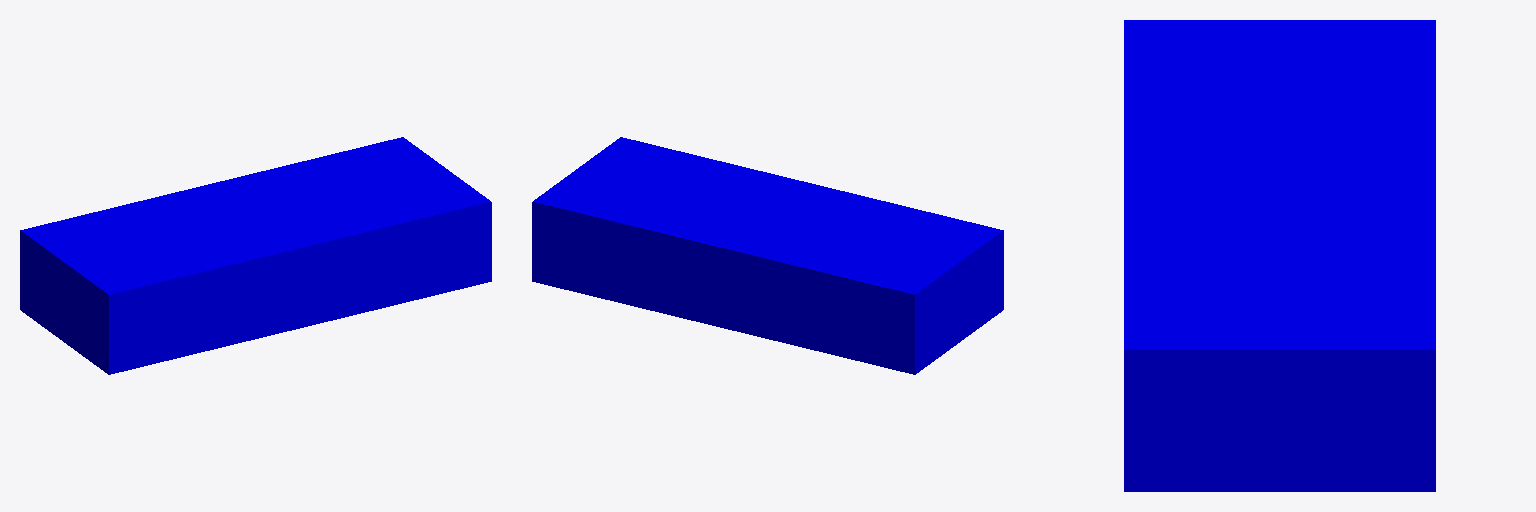
robot.urdf — mycar:
<!-- 
    需求: 长方体

 -->
<robot name="mycar">
    <!-- 底盘 -->
    <link name="base_link">
        <visual>
            <geometry>
                <box size="0.5 0.2 0.1" />
            </geometry>
            <origin xyz="0 0 0" rpy="0 0 0" />
            <material name="blue">
                <color rgba="0 0 1.0 0.5" />
            </material>
        </visual>
    </link>

</robot>

--- Facts derived from the render (not from the file) ---
Views: 3 orthographic renders of the robot side by side, from view 1: azimuth 30°, elevation 25°; view 2: azimuth 150°, elevation 25°; view 3: azimuth 270°, elevation 25°.
Model mycar with 1 links and 0 joints (none), rooted at base_link, posed every joint at zero.
Visible links, largest first — view 1: base_link; view 2: base_link; view 3: base_link.
Link boxes in pixels (left/top/right/bottom): base_link: left=20, top=137, right=491, bottom=374; base_link: left=532, top=137, right=1003, bottom=374; base_link: left=1124, top=20, right=1435, bottom=491.
Bounding box of the posed robot: 0.5 × 0.2 × 0.1 m (x, y, z).
Geometry: primitives only (box / cylinder / sphere), no mesh files.
